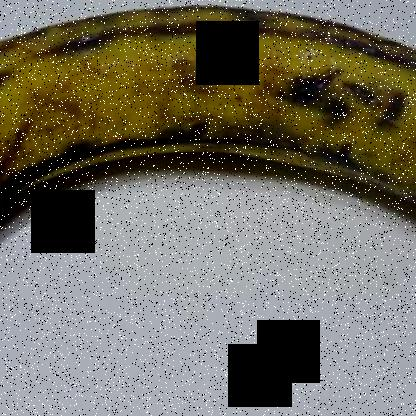overripe: (0, 0, 415, 282)
